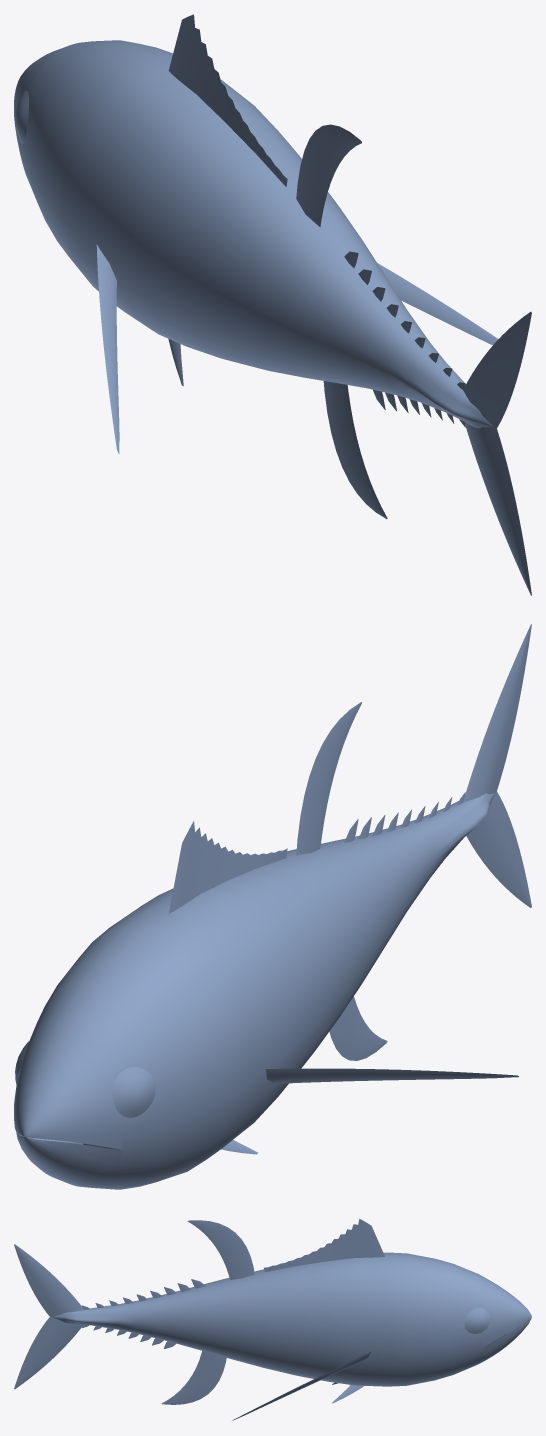
File: bigeye_tuna_game.glb
The picture shows the model from 3 angles, top to bottom: view 1: azimuth 30°, elevation 25°; view 2: azimuth 150°, elevation 25°; view 3: azimuth 270°, elevation 25°; orthographic projection. The views are drawn at different scales.
Visible parts, largest first — view 1: bigeye_tuna_game; view 2: bigeye_tuna_game; view 3: bigeye_tuna_game.
Part boxes in pixels (x1=…): bigeye_tuna_game: x1=14, y1=14, x2=531, y2=595; bigeye_tuna_game: x1=14, y1=624, x2=531, y2=1189; bigeye_tuna_game: x1=14, y1=1218, x2=531, y2=1420.
Size of the model in its own units: 0.8206 by 0.7144 by 1.8.
